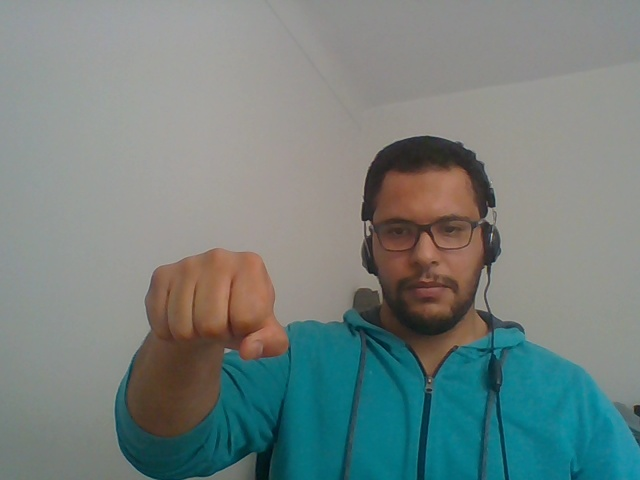yes: (138, 223, 296, 393)
